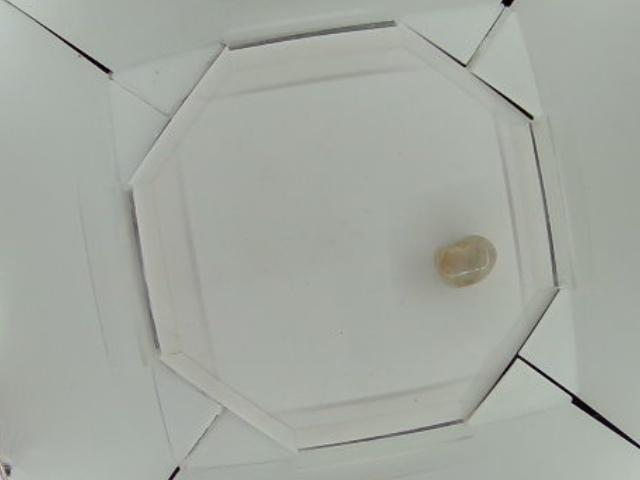Pebble: (436, 236, 498, 286)
